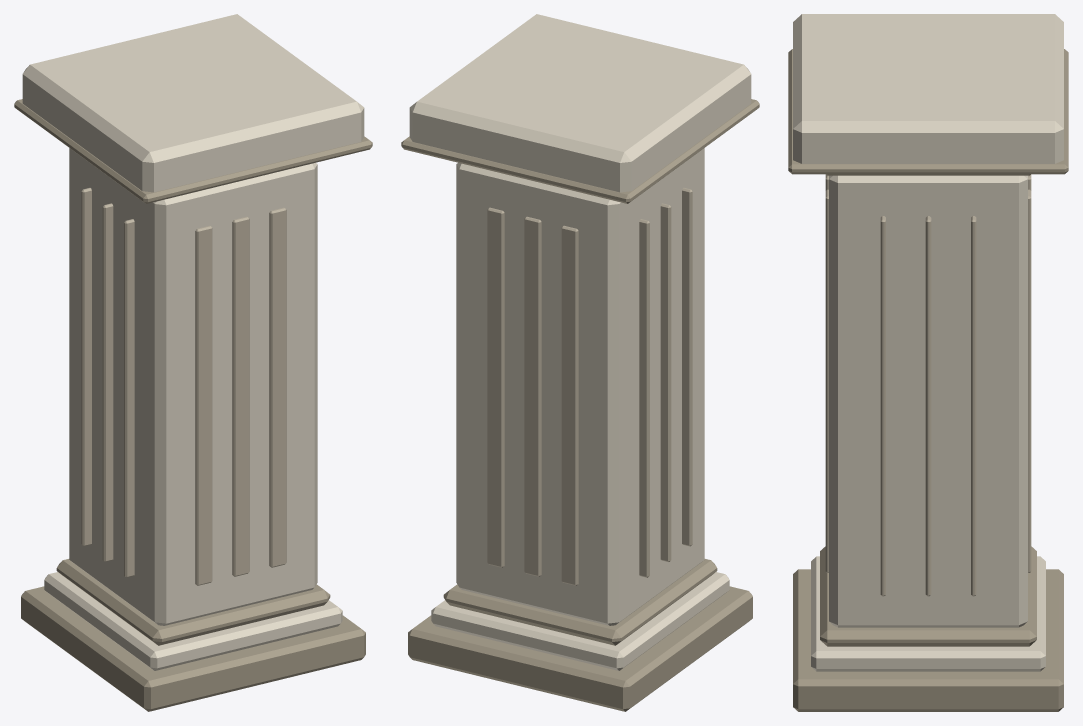
Rendered from pedestal.glb.
The picture shows the model from 3 angles, left to right: view 1: azimuth 30°, elevation 25°; view 2: azimuth 150°, elevation 25°; view 3: azimuth 270°, elevation 25°; orthographic projection. The views are drawn at different scales.
Visible parts, largest first — view 1: pedestal; view 2: pedestal; view 3: pedestal.
Part boxes in pixels (left/top/right/bottom): pedestal: left=14, top=14, right=372, bottom=711; pedestal: left=401, top=14, right=759, bottom=711; pedestal: left=788, top=14, right=1068, bottom=711.
Size of the model in its own units: 0.31 by 0.72 by 0.31.
